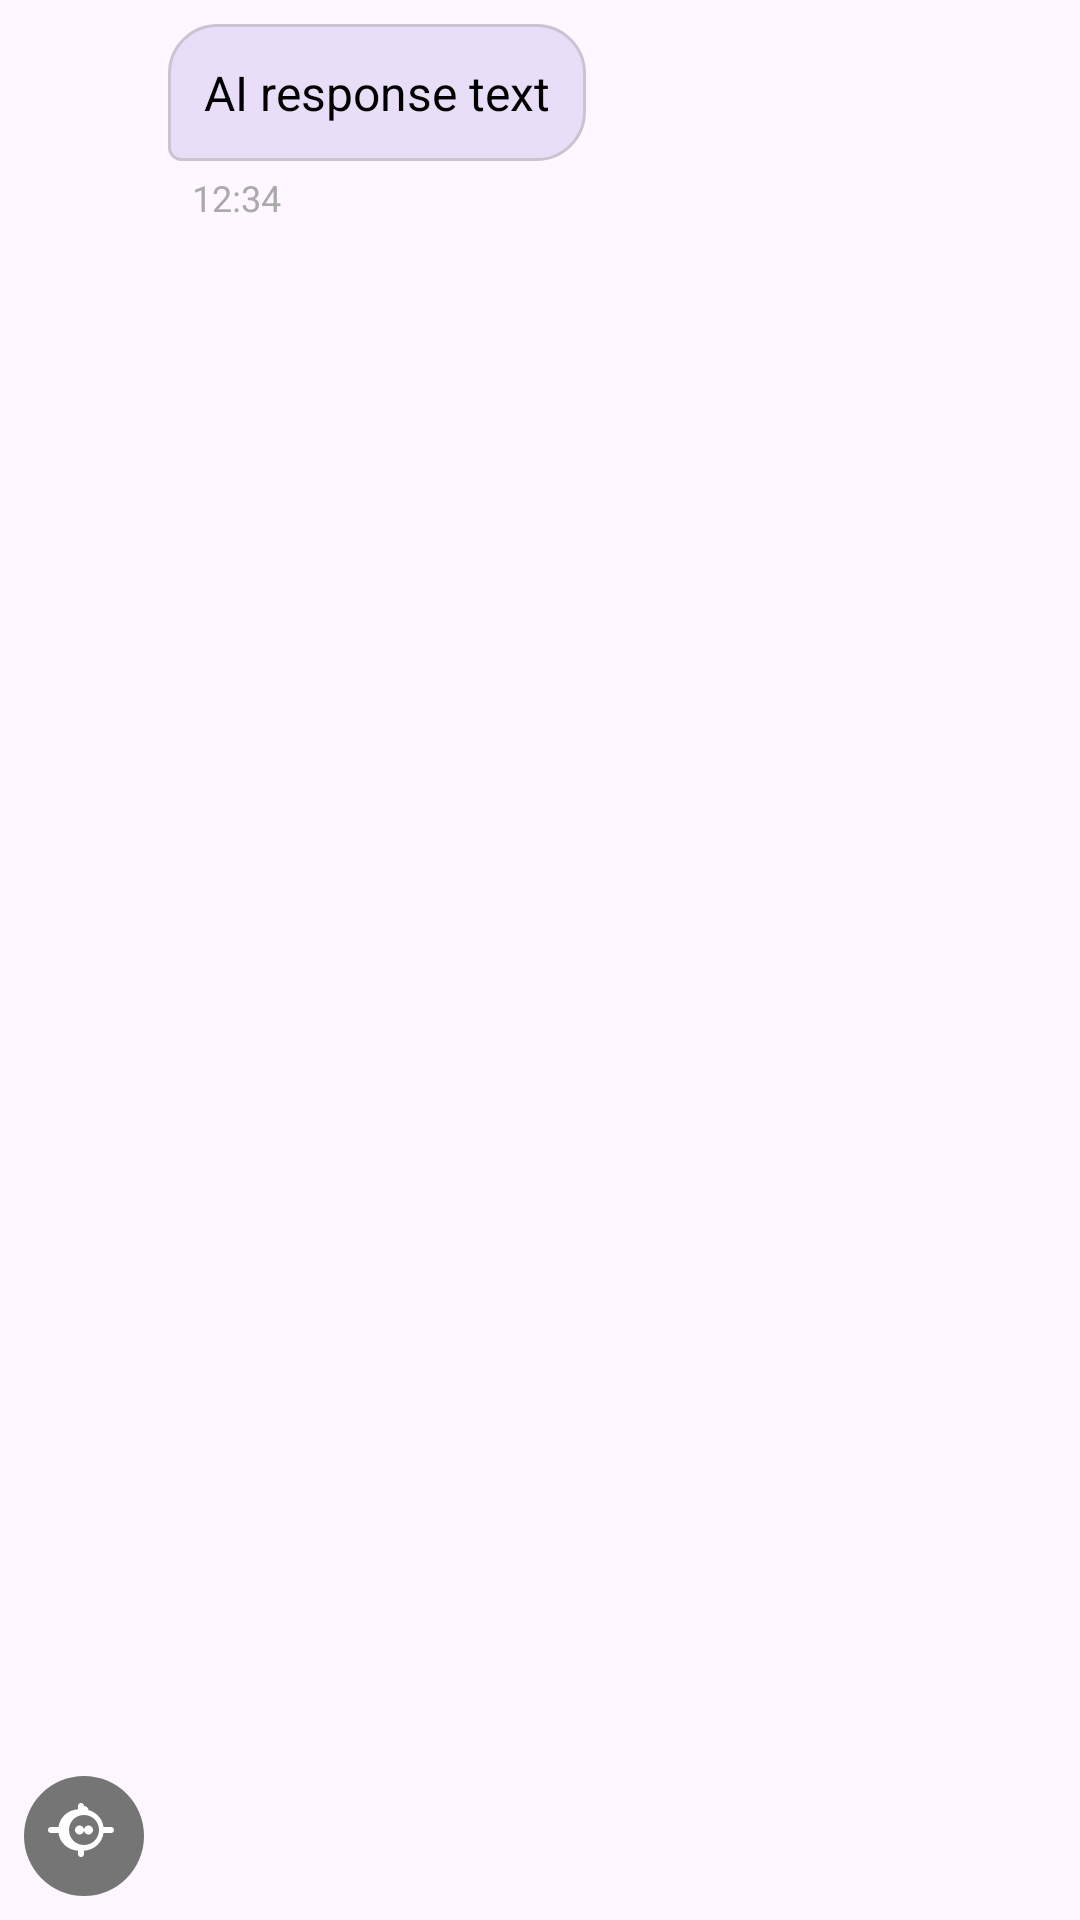

Point at icon controls on the screen. Image size 1080px×1920px, points as (x=x, y=y).
robot: (x=84, y=1836)
